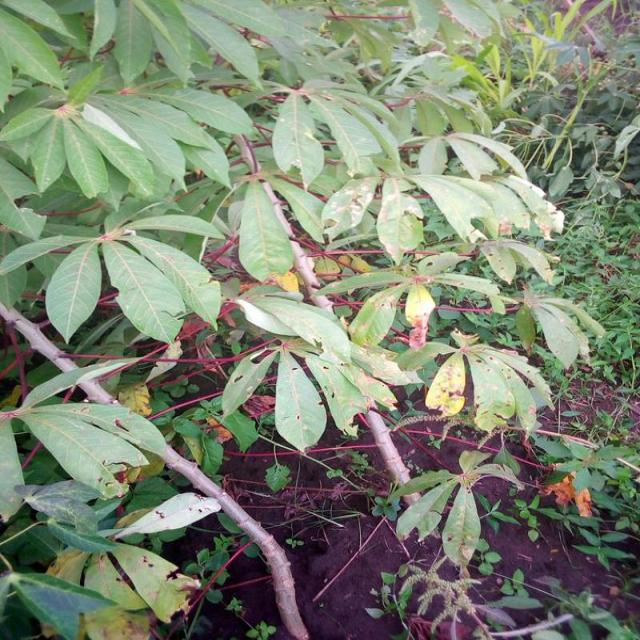cassava leaf: (1, 0, 605, 637), (238, 177, 294, 282)
